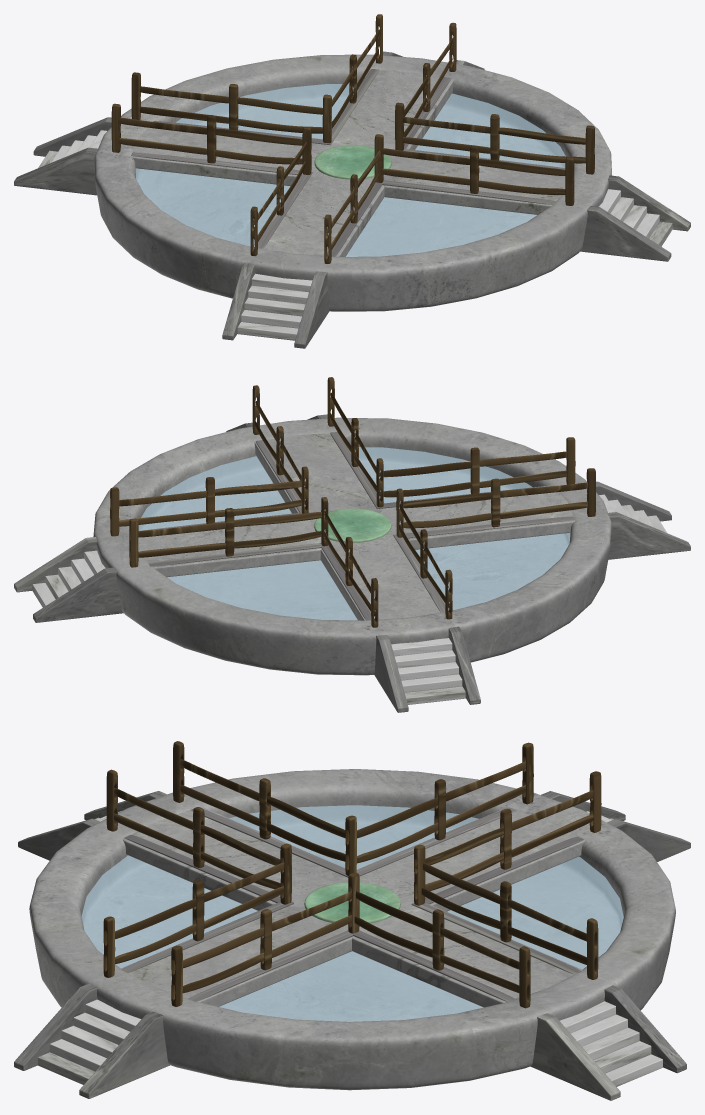
The model's file is ponddd.glb.
The picture shows the model from 3 angles, top to bottom: view 1: azimuth 30°, elevation 25°; view 2: azimuth 150°, elevation 25°; view 3: azimuth 270°, elevation 25°; orthographic projection. The views are drawn at different scales.
Visible parts, largest first — view 1: pond_geo, water_geo1, polySurface8, pCube14.001; view 2: pond_geo, water_geo1, polySurface8, pCube14.001; view 3: pond_geo, polySurface8, water_geo1, pCube14.001.
Part boxes in pixels (x1,y1,x2,y2): pond_geo: (94, 54, 611, 311); water_geo1: (135, 83, 565, 256); polySurface8: (111, 14, 594, 263); pCube14.001: (14, 51, 690, 348); pond_geo: (93, 417, 611, 675); water_geo1: (138, 447, 570, 620); polySurface8: (110, 377, 595, 627); pCube14.001: (14, 414, 690, 712); pond_geo: (29, 769, 675, 1090); polySurface8: (103, 741, 601, 1008); water_geo1: (81, 805, 623, 1021); pCube14.001: (14, 791, 690, 1100).
Size of the model in its own units: 9.84 by 1.83 by 9.86.
4 materials, 3 textured.
